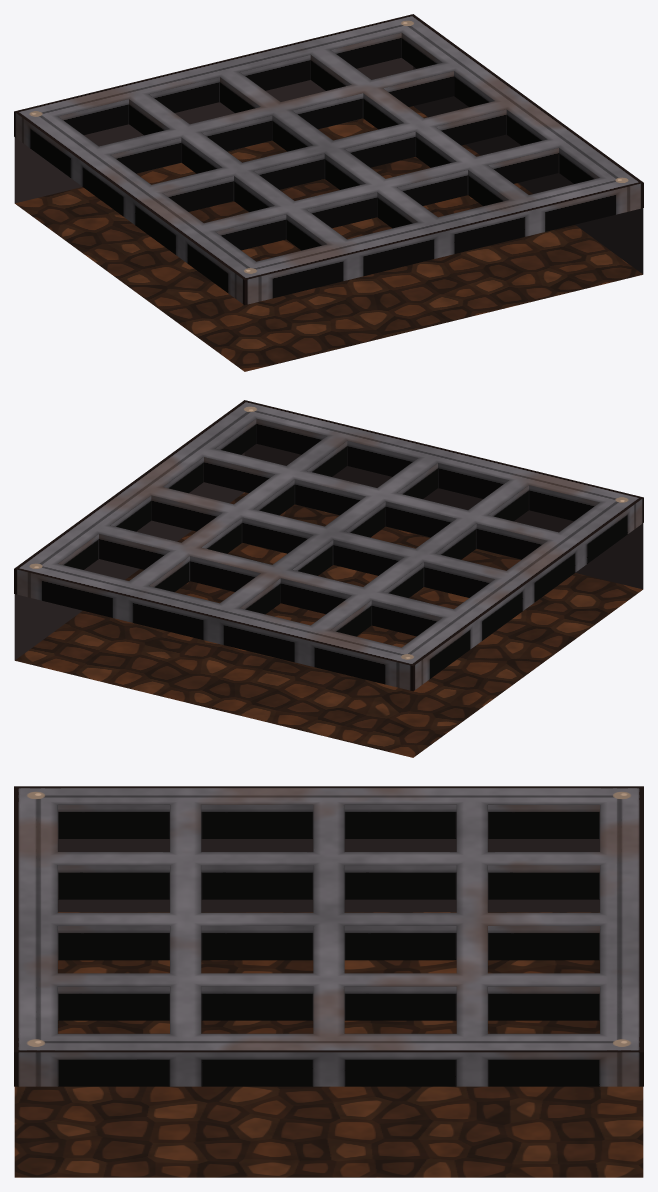
File: CHO_FL_Grinder.fbx
The picture shows the model from 3 angles, top to bottom: view 1: azimuth 30°, elevation 25°; view 2: azimuth 150°, elevation 25°; view 3: azimuth 270°, elevation 25°; orthographic projection. The views are drawn at different scales.
Visible parts, largest first — view 1: CHO_FL_Grinder; view 2: CHO_FL_Grinder; view 3: CHO_FL_Grinder.
Part boxes in pixels (x1,y1,x2,y2): CHO_FL_Grinder: (14,14,643,371); CHO_FL_Grinder: (14,400,643,757); CHO_FL_Grinder: (14,786,643,1177).
Bounding box in the file's own units: 1 × 0.22 × 1.
